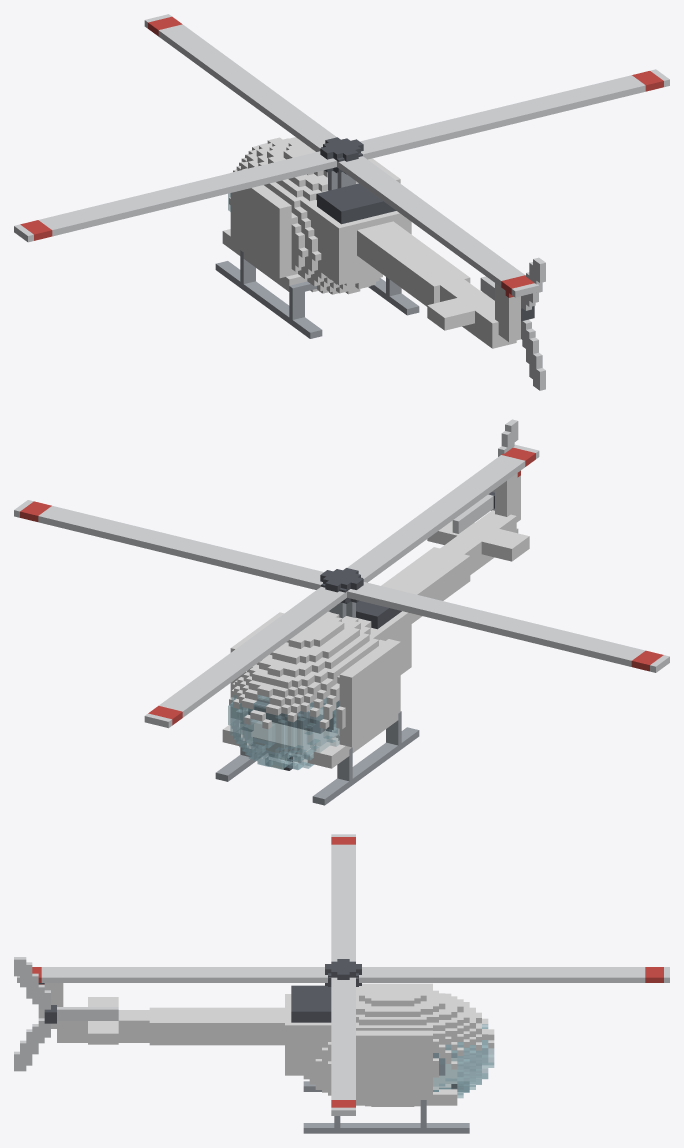
File: helicoptero.glb
The picture shows the model from 3 angles, top to bottom: view 1: azimuth 30°, elevation 25°; view 2: azimuth 150°, elevation 25°; view 3: azimuth 270°, elevation 25°; orthographic projection. The views are drawn at different scales.
Parts seen in each view (by area): view 1: helicoptero, rotor, rotor_cola; view 2: helicoptero, rotor, rotor_cola; view 3: helicoptero, rotor, rotor_cola.
Part boxes in pixels (x1,y1,x2,y2): helicoptero: (215,137,520,348); rotor: (14,14,669,297); rotor_cola: (480,257,545,390); helicoptero: (215,470,529,805); rotor: (14,444,669,728); rotor_cola: (452,419,518,533); helicoptero: (38,973,494,1133); rotor: (17,834,669,1115); rotor_cola: (14,957,118,1071).
Size of the model in its own units: 10.6 by 2.83 by 10.65.
